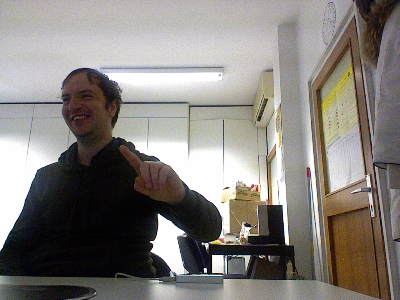食指: (117, 143, 186, 204)
